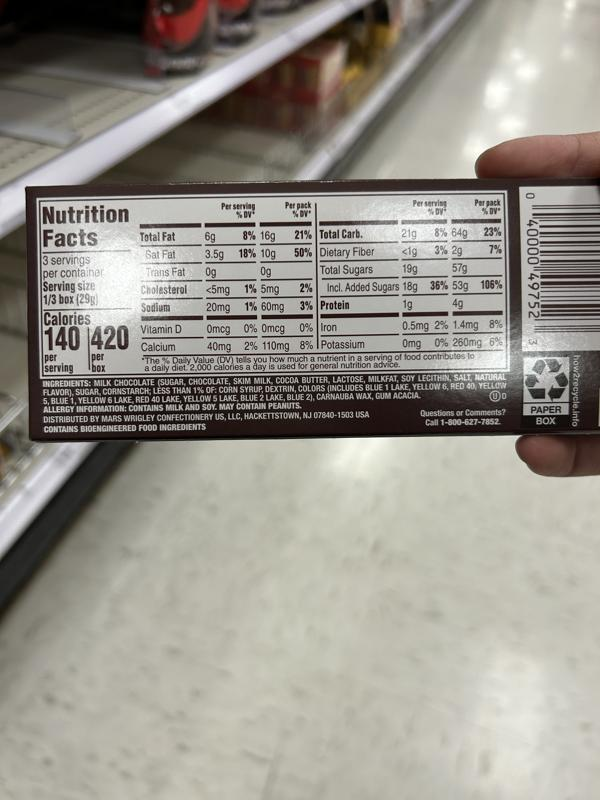ingredients: (39, 372, 512, 407)
